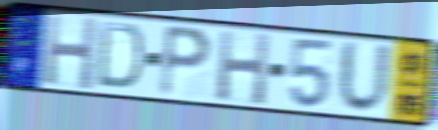5: (288, 37, 336, 111)
D: (94, 18, 146, 93)
H: (41, 12, 99, 93), (214, 27, 271, 108)
P: (156, 21, 215, 100)
U: (336, 37, 395, 117)
